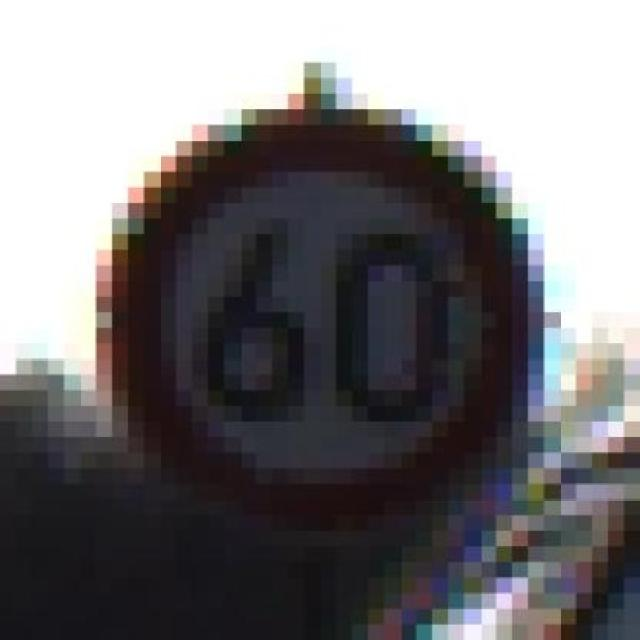forb_speed_over_60: (119, 118, 528, 524)
